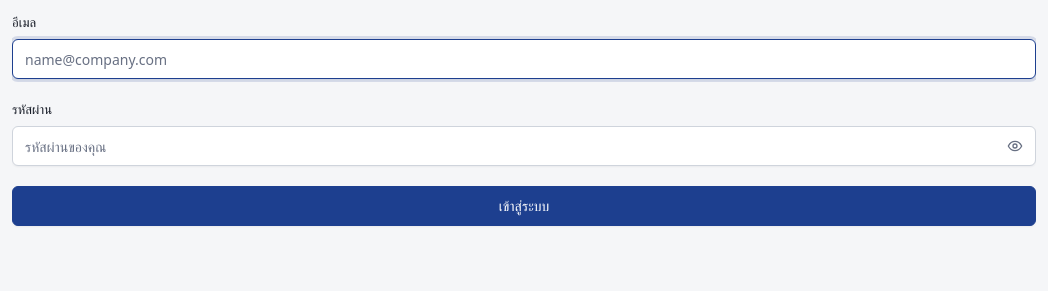
Test: LoginForm › ตรวจช่องว่าง / รูปแบบอีเมลก่อนส่ง และไม่เรียก API
This screenshot has width=1048, height=291.
Click the button "เข้าสู่ระบบ" at coordinates (524, 206), box [12,186,1036,226]
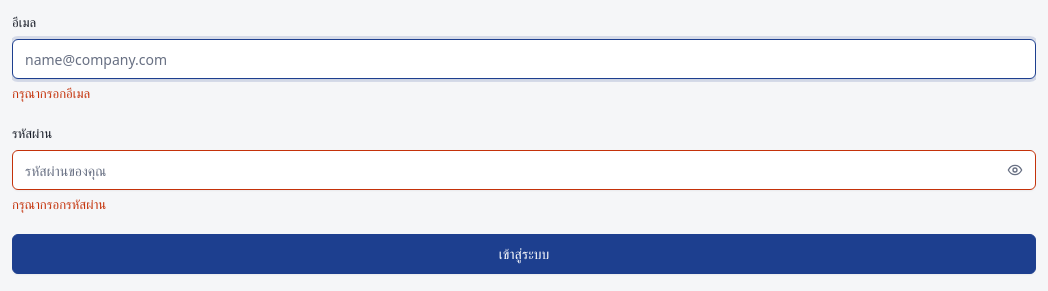
Now the text "กรุณากรอกอีเมล" is shown, box [12,84,90,102]
Now the text "กรุณากรอกรหัสผ่าน" is shown, box [12,195,106,213]
Type "not-an-email" into the field labelled "อีเมล" at coordinates (524, 59), box [13,40,1035,78]
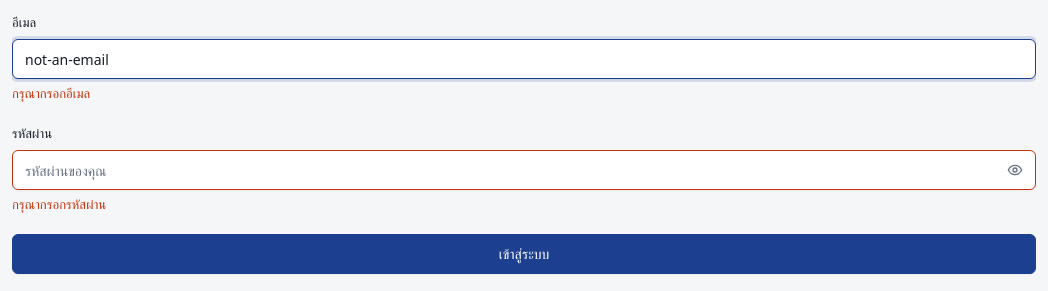
Type "x" into the password field labelled "รหัสผ่าน" at coordinates (506, 170), box [13,151,999,189]
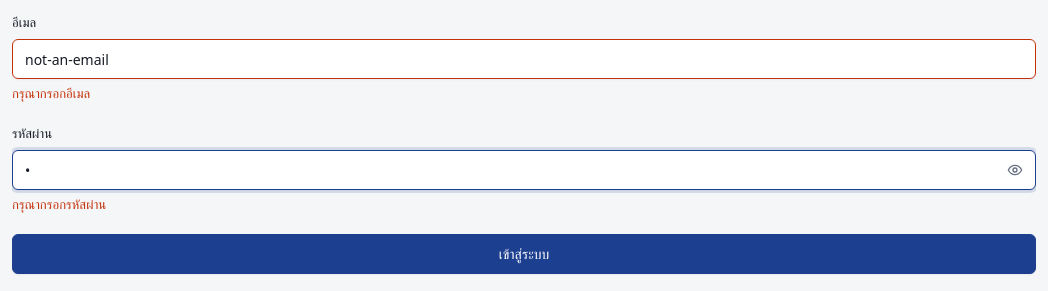
Click the button "เข้าสู่ระบบ" at coordinates (524, 254), box [12,234,1036,274]
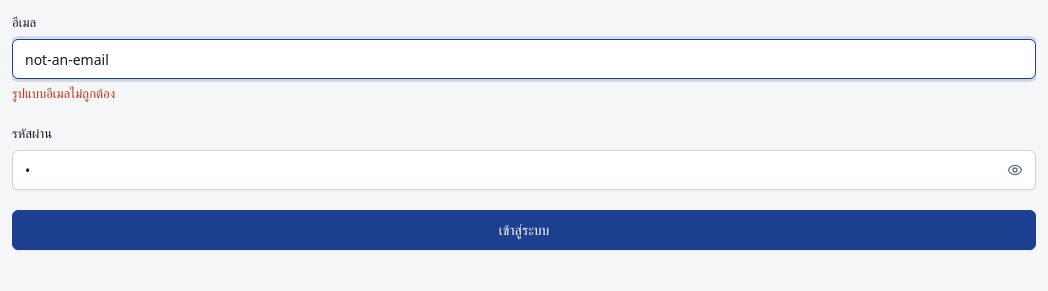
Now the text "รูปแบบอีเมลไม่ถูกต้อง" is shown, box [12,84,115,102]
